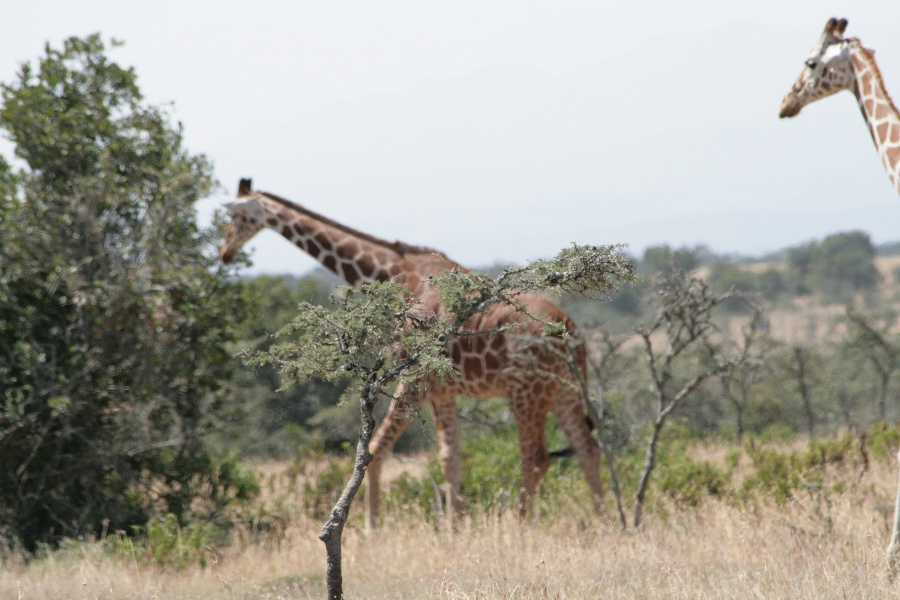giraffe: (207, 178, 621, 527), (769, 9, 899, 232)
